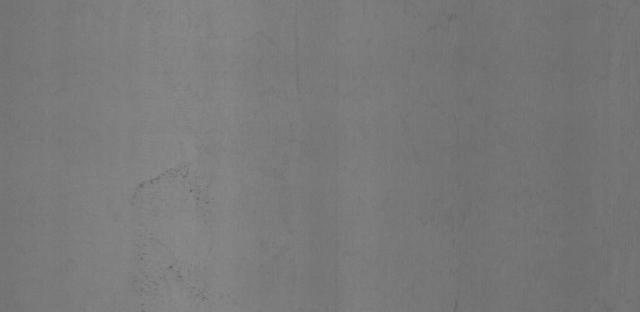inclusion: (129, 161, 213, 221), (127, 247, 210, 307)
